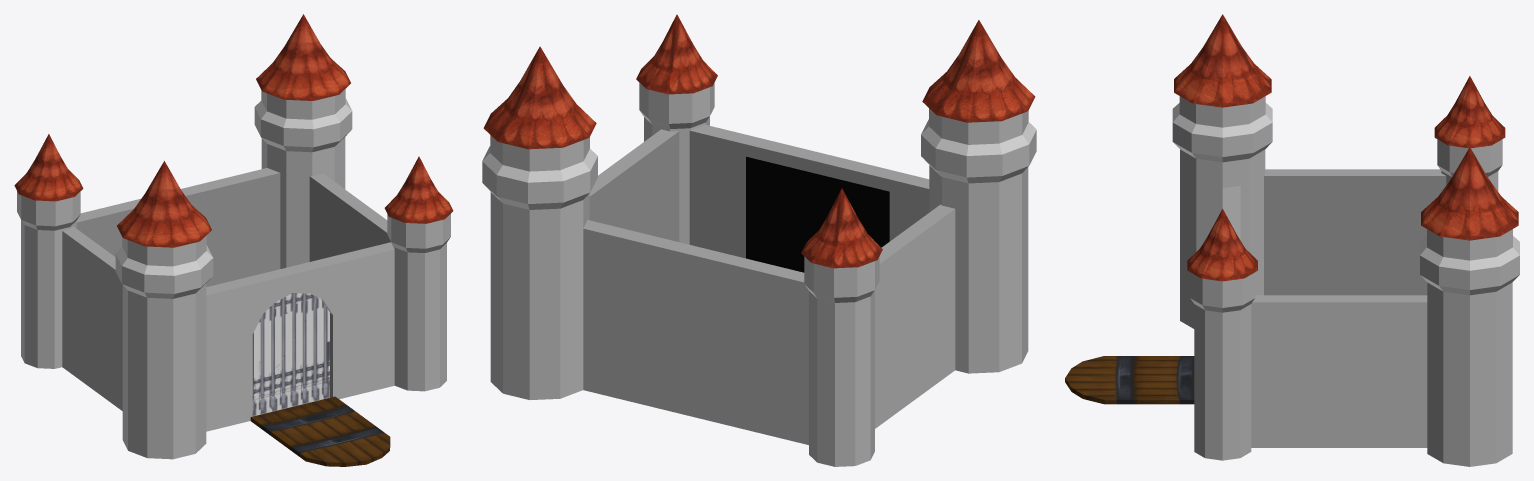
File: Castle.fbx
The picture shows the model from 3 angles, left to right: view 1: azimuth 30°, elevation 25°; view 2: azimuth 150°, elevation 25°; view 3: azimuth 270°, elevation 25°; orthographic projection. The views are drawn at different scales.
Visible parts, largest first — view 1: polySurface1, pCylinder1, pCylinder6, pCylinder3, pCylinder7, pPlane1, polySurface2; view 2: polySurface1, pCylinder6, pCylinder1, pCylinder7, pPlane2, pCylinder3; view 3: polySurface1, pCylinder6, pCylinder1, pCylinder3, polySurface2, pCylinder7.
Part boxes in pixels (x1,y1,x2,y2): polySurface1: (62, 168, 394, 431); pCylinder1: (115, 161, 213, 459); pCylinder6: (254, 14, 352, 268); pCylinder3: (384, 156, 453, 391); pCylinder7: (14, 134, 83, 368); pPlane1: (252, 293, 329, 416); polySurface2: (250, 396, 390, 466); polySurface1: (583, 125, 955, 444); pCylinder6: (482, 46, 597, 399); pCylinder1: (921, 20, 1036, 373); pCylinder7: (801, 188, 882, 466); pPlane2: (746, 156, 889, 272); pCylinder3: (636, 14, 717, 244); polySurface1: (1222, 169, 1446, 447); pCylinder6: (1420, 147, 1519, 466); pCylinder1: (1172, 14, 1272, 328); pCylinder3: (1187, 209, 1257, 460); polySurface2: (1065, 356, 1194, 404); pCylinder7: (1434, 76, 1505, 191).
Bounding box in the file's own units: 5603 × 4446 × 6071.
